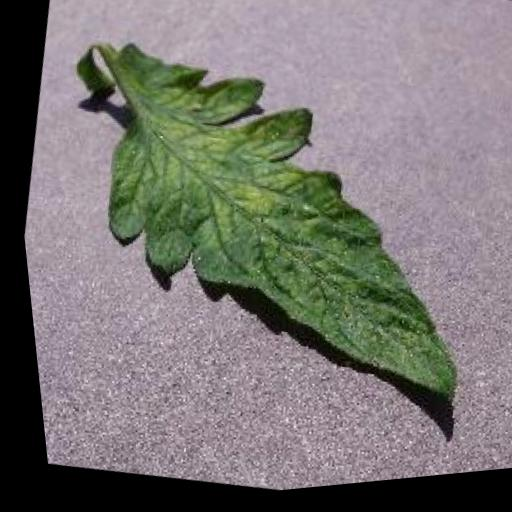Mosaic Virus: (42, 13, 512, 442)
